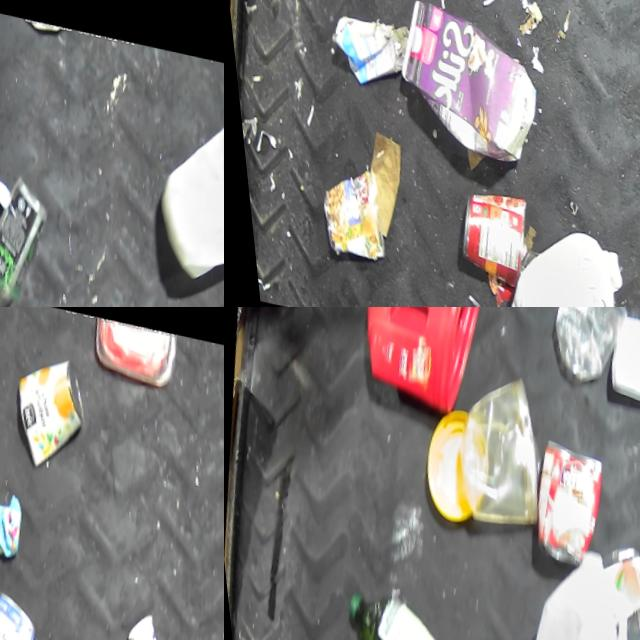can: (513, 427, 617, 568), (0, 339, 96, 471), (440, 179, 524, 286), (301, 157, 386, 261)
milk_jug: (482, 529, 640, 640), (136, 103, 224, 293), (479, 209, 624, 307)
non_white_jug: (376, 0, 543, 167), (347, 307, 498, 412)
plastic_bottle: (0, 161, 61, 307)
